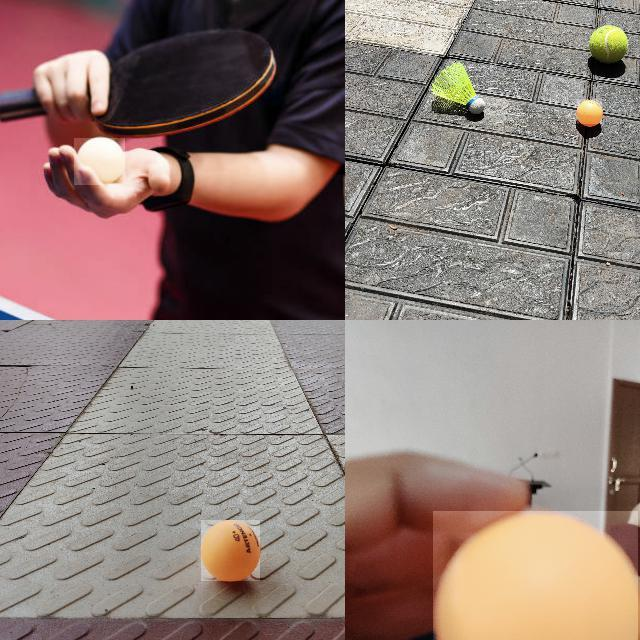ping-pong-ball: (432, 511, 639, 639), (201, 520, 261, 582), (74, 138, 126, 186), (576, 99, 604, 125)
